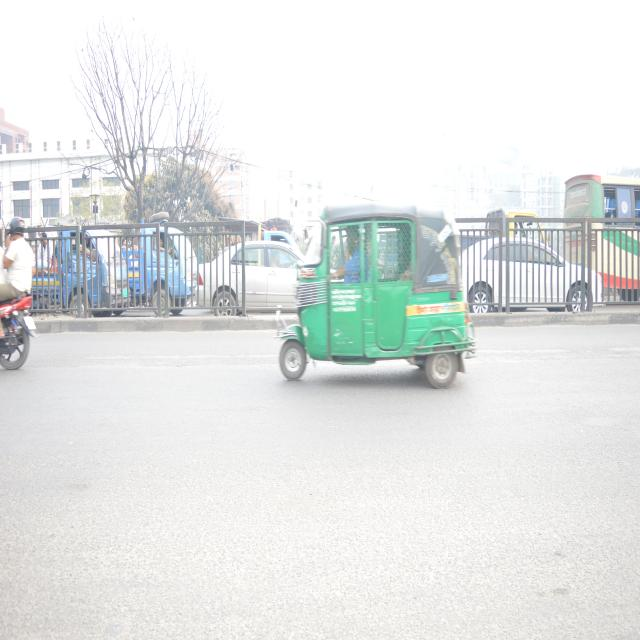bus: (563, 165, 640, 291)
car: (460, 220, 598, 326), (196, 231, 306, 322)
pickup-van: (25, 210, 129, 319), (129, 220, 204, 319)
